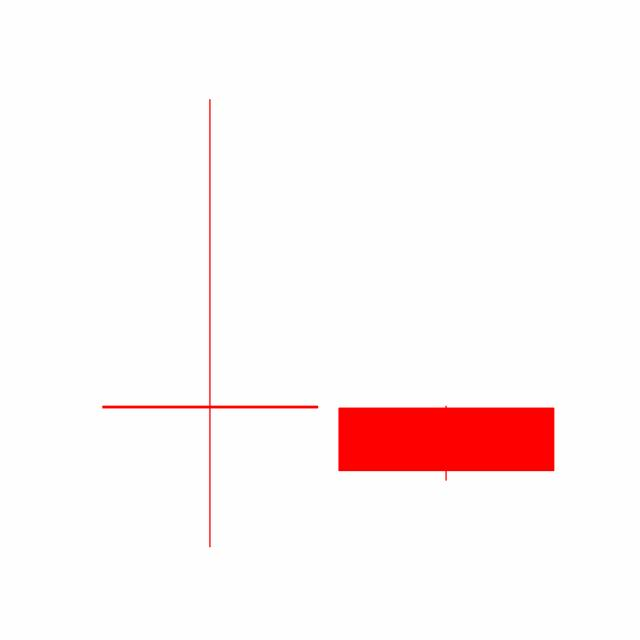Marubozu: (327, 404, 565, 481)
